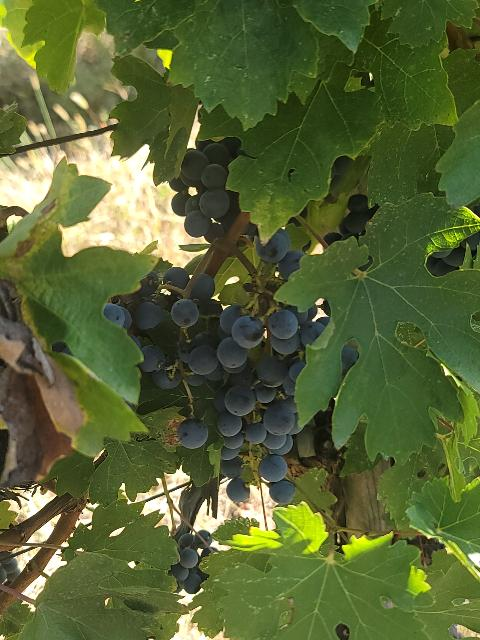grapes: (188, 310, 324, 505)
